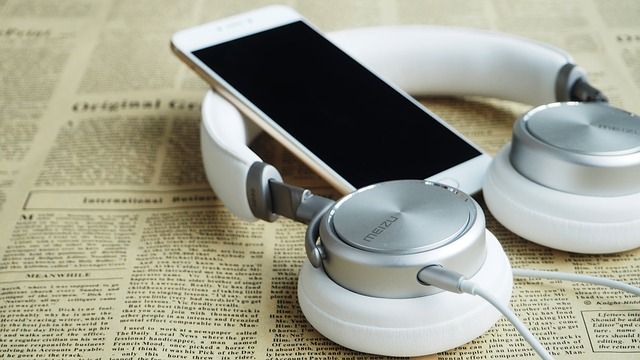headphones: (203, 22, 640, 356)
